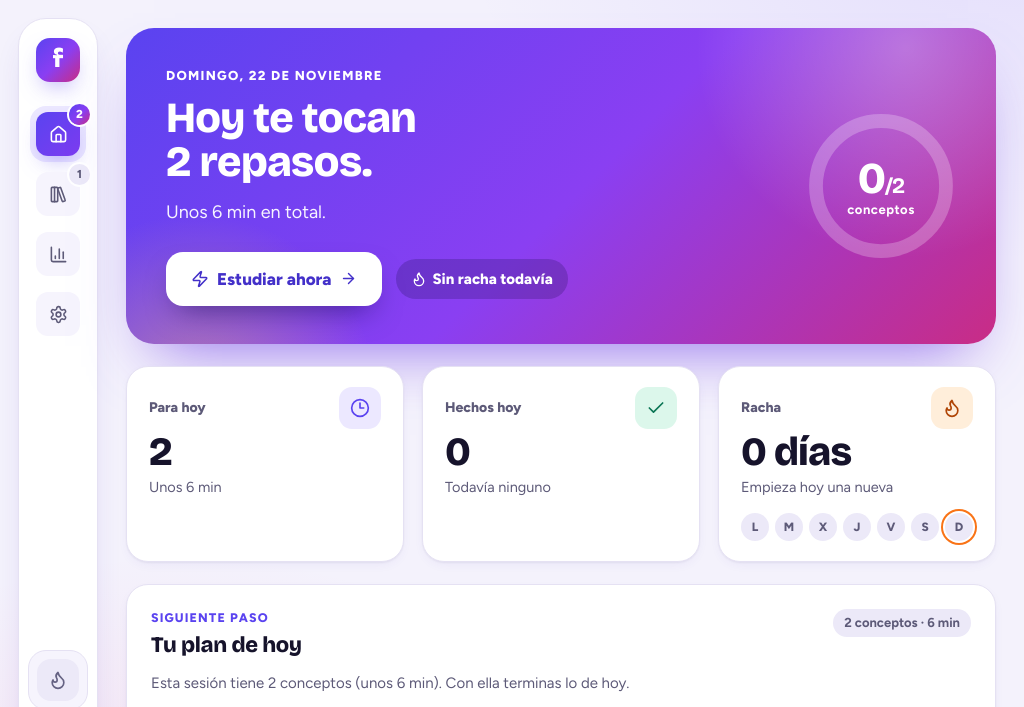
Test case: sesión de estudio › «Deshacer» retira la última respuesta y devuelve el concepto a como estaba
The image size is (1024, 707).
Click the button "Estudiar ahora": click(274, 279) 166,252 -> 382,306
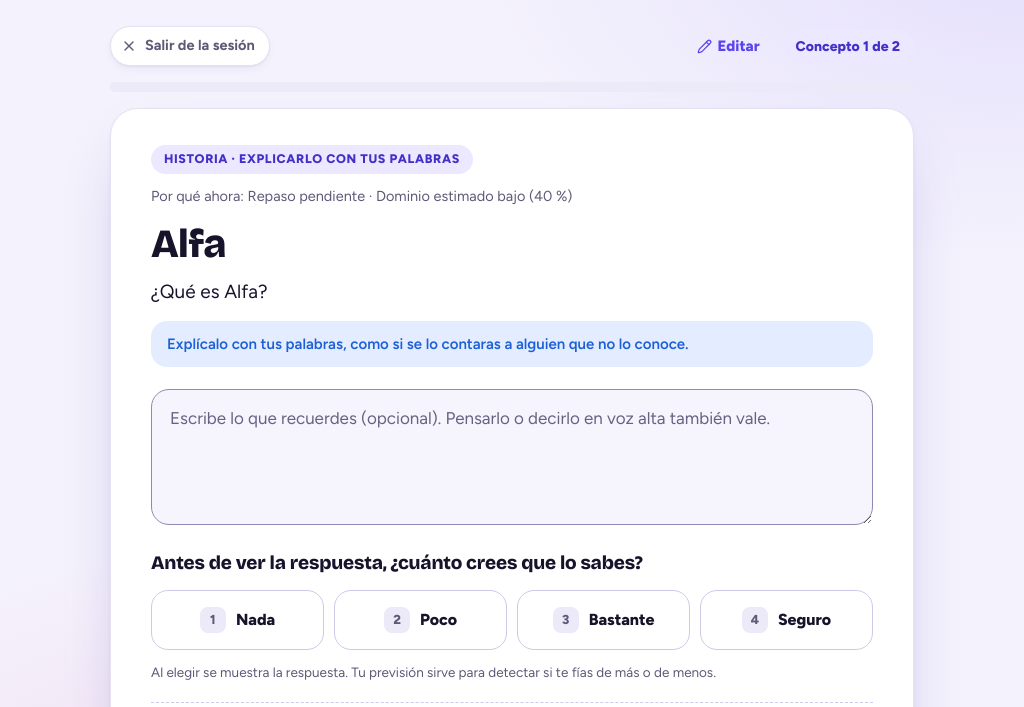
Click the button "4 Seguro": click(786, 620) 700,590 -> 873,650
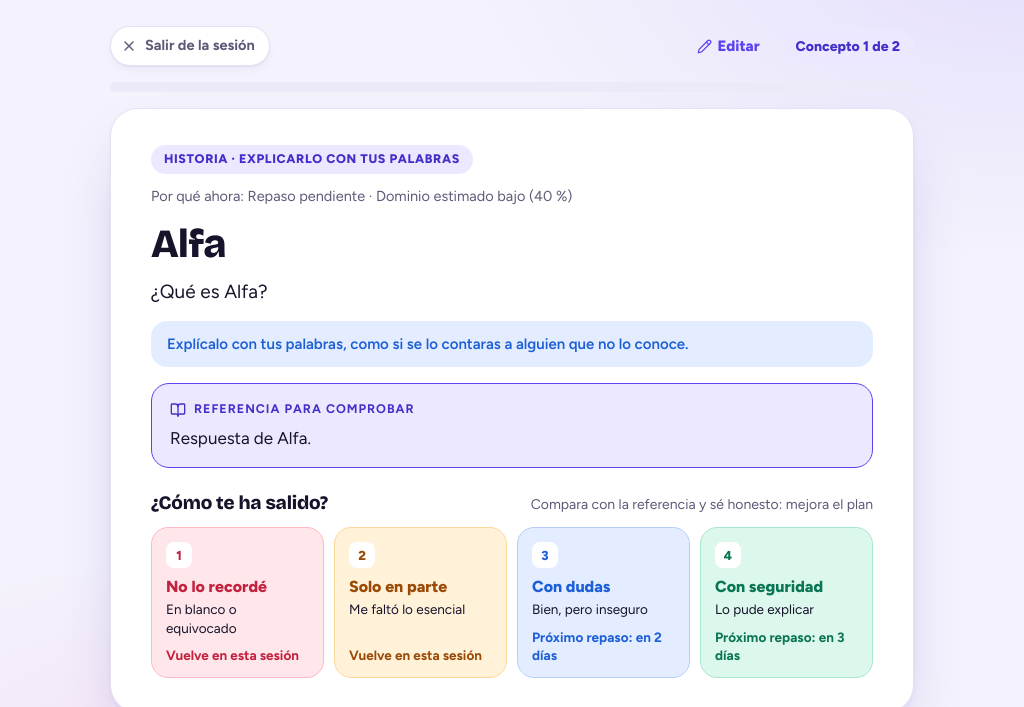
Click the button "4 Con seguridad Lo pude explicar Próximo repaso: en 3 días": click(786, 603) 700,527 -> 873,678
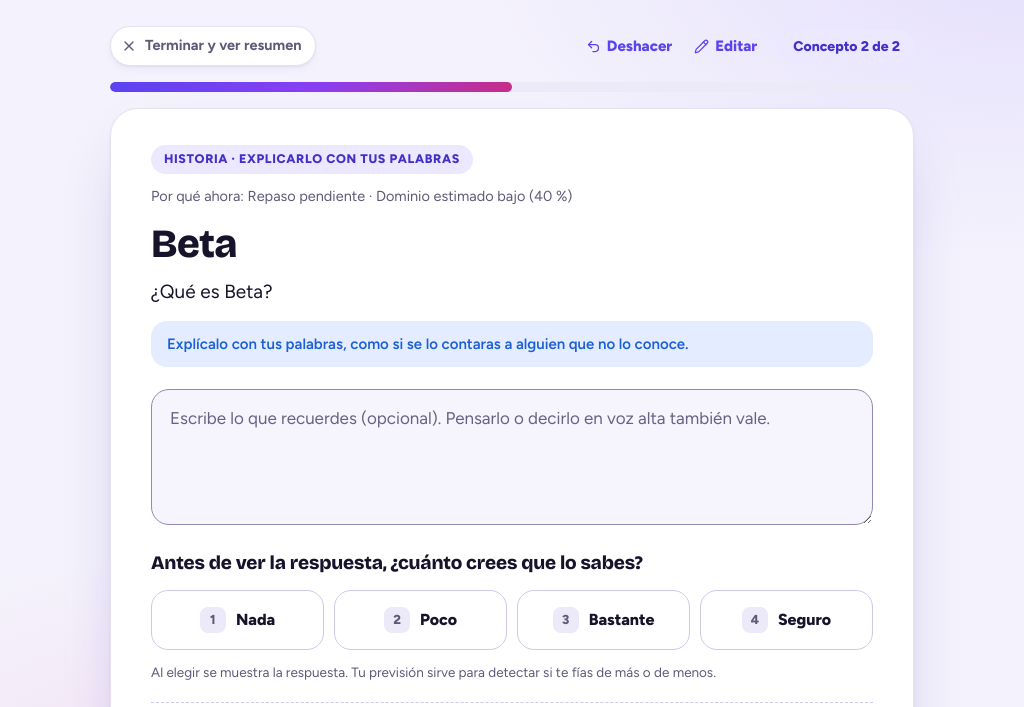
Expected: the text "Concepto 2 de 2" is shown, 779,30 -> 914,62
Click the button "Deshacer": click(629, 46) 578,28 -> 680,64
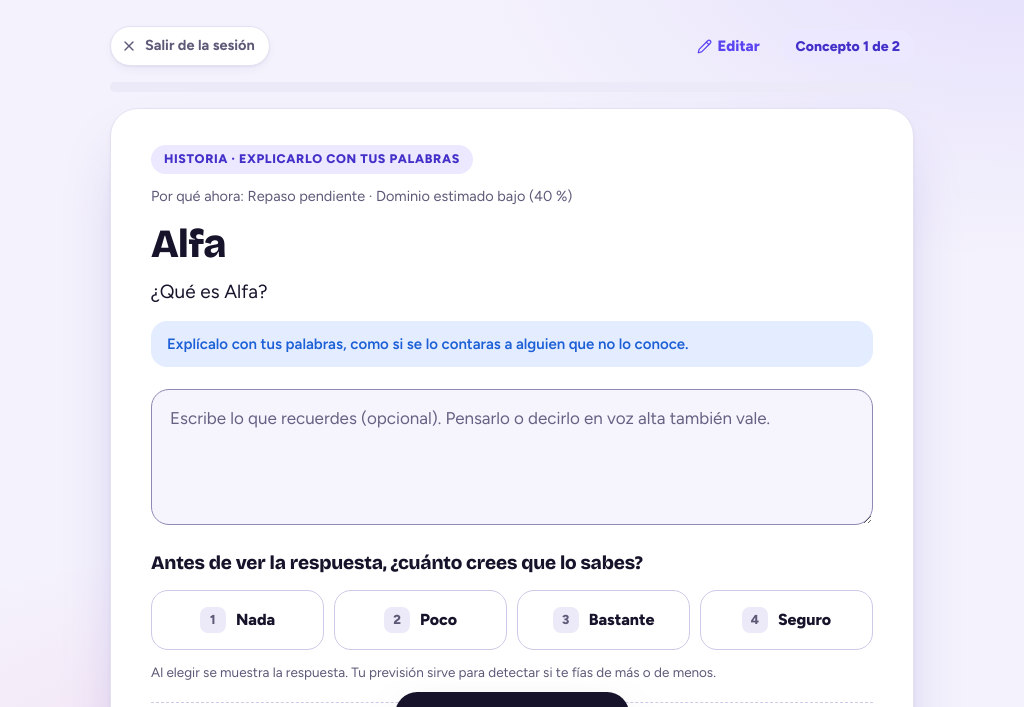
Expected: the text "Concepto 1 de 2" is shown, 782,30 -> 914,62
